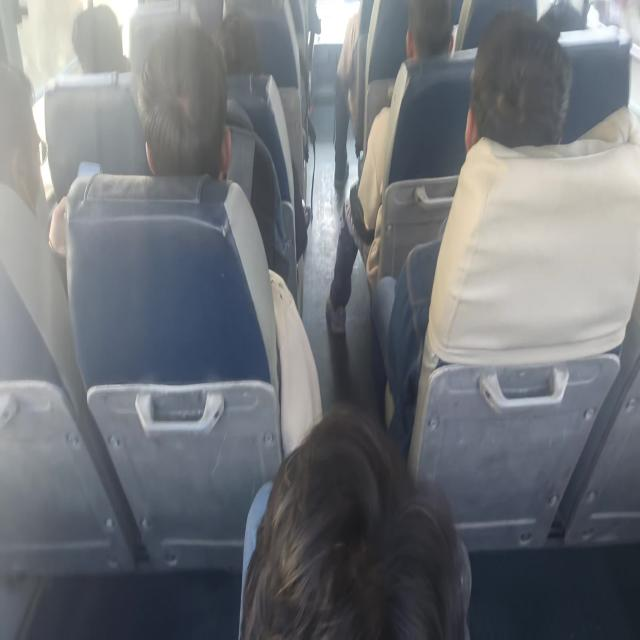person: (49, 17, 322, 455), (370, 9, 573, 456), (238, 404, 472, 638), (325, 0, 459, 335), (136, 19, 290, 289), (136, 19, 232, 179), (0, 61, 68, 256), (332, 2, 362, 188), (71, 4, 130, 74)
